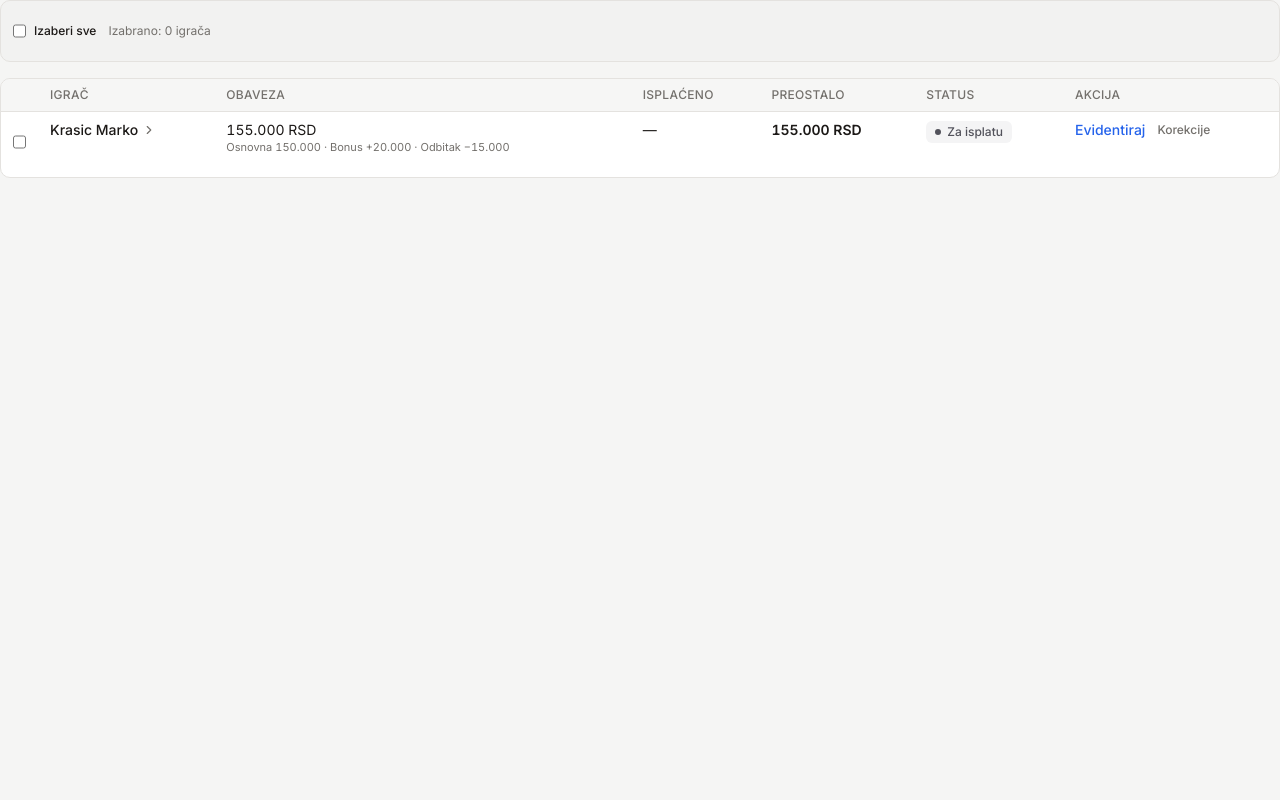
Test case: MonthPayments individual recording › shows a bonus and a deduction by name in the row and the payment dialog
Check: the text "Osnovna 150.000 · Bonus +20.000 · Odbitak −15.000" is shown, box 226,140 -> 510,154
Click the button "Evidentiraj".
click(1110, 130)  # box 1075,120 -> 1145,140
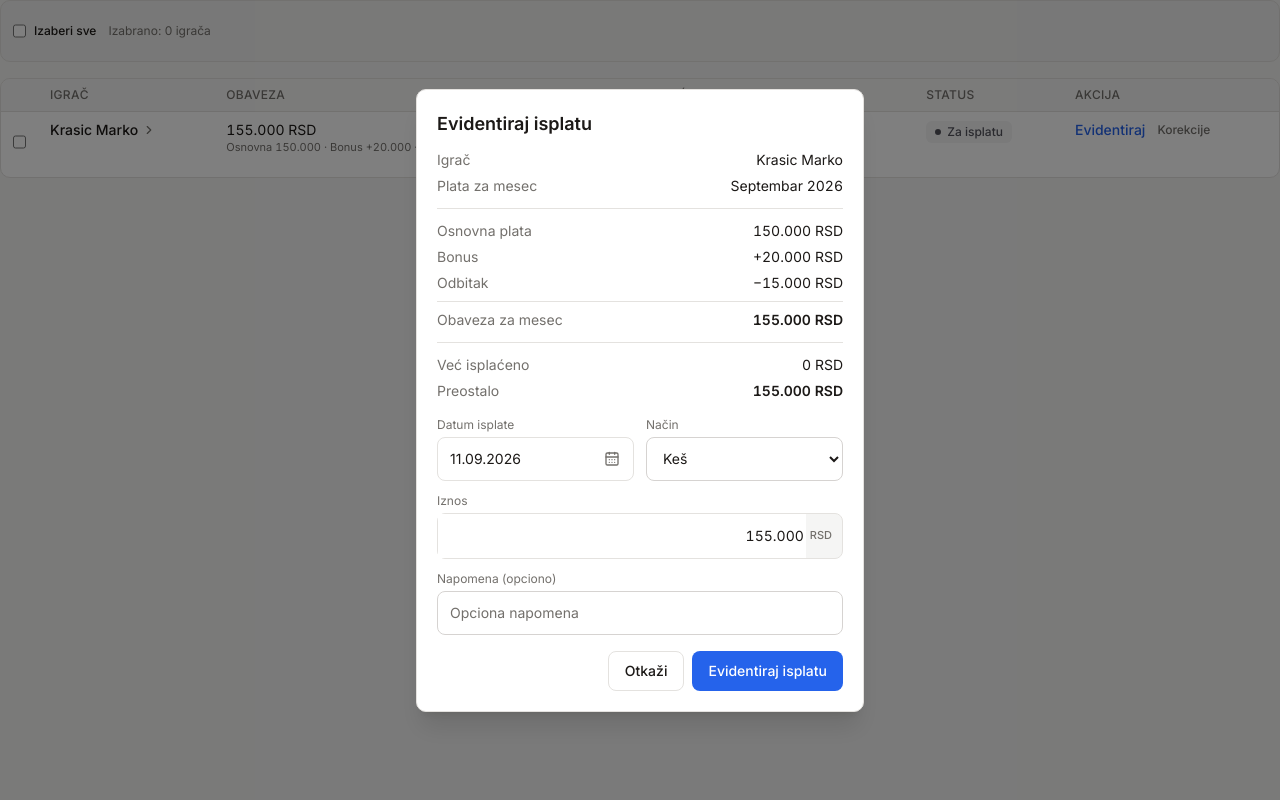
Check: the text "+20.000 RSD" is shown, box 753,246 -> 843,266
Check: the text "155.000 RSD" in the row of "Obaveza za mesec" is shown, box 753,310 -> 843,328
